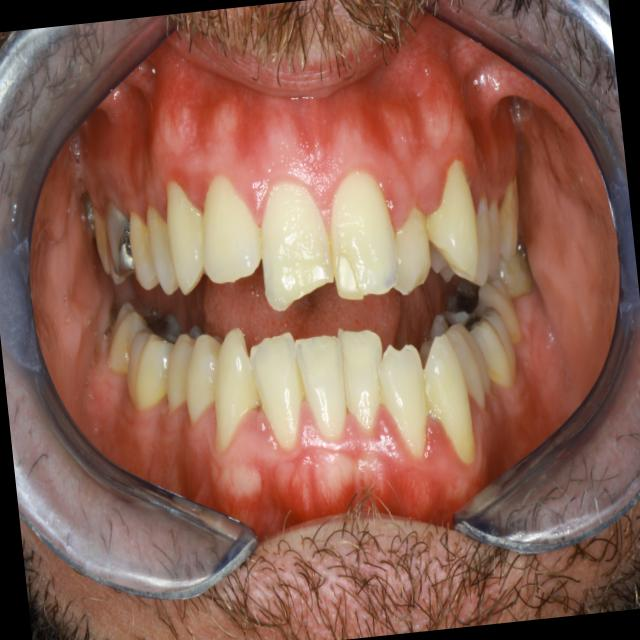tooth: (251, 169, 339, 318), (320, 157, 405, 305), (189, 154, 271, 302), (423, 292, 523, 403), (414, 321, 483, 470), (415, 148, 484, 295), (244, 322, 316, 460), (114, 314, 210, 416), (368, 325, 438, 464), (413, 306, 498, 418), (288, 320, 358, 449), (436, 256, 527, 353), (202, 319, 267, 453), (157, 165, 217, 304), (100, 295, 184, 387), (333, 315, 391, 436), (175, 321, 238, 430), (384, 198, 438, 303), (471, 226, 538, 307), (139, 196, 188, 306), (156, 324, 212, 419), (95, 193, 138, 297), (460, 187, 497, 293), (124, 204, 165, 299), (493, 171, 528, 270), (85, 193, 120, 282), (478, 187, 508, 284)
